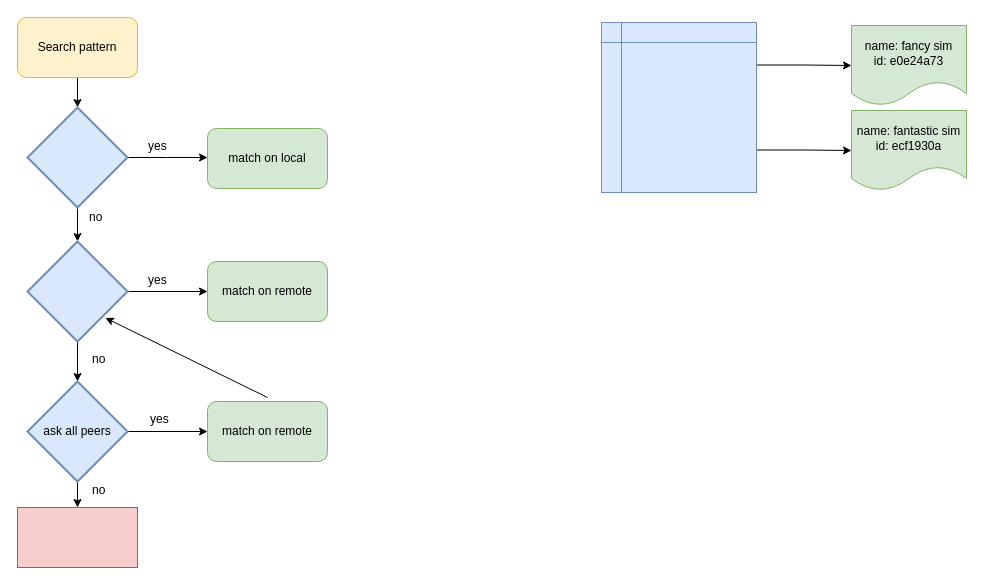
Image size: 984x585. Some labels were removed from this diagram. The shapes that lost their labels are listed below. From the top down, each one's centre as x and y in pixels, then its label:
the point at 678,107: Cache
the point at 77,157: local sim in cache
the point at 77,291: remote sim in cache
the point at 77,537: no match
